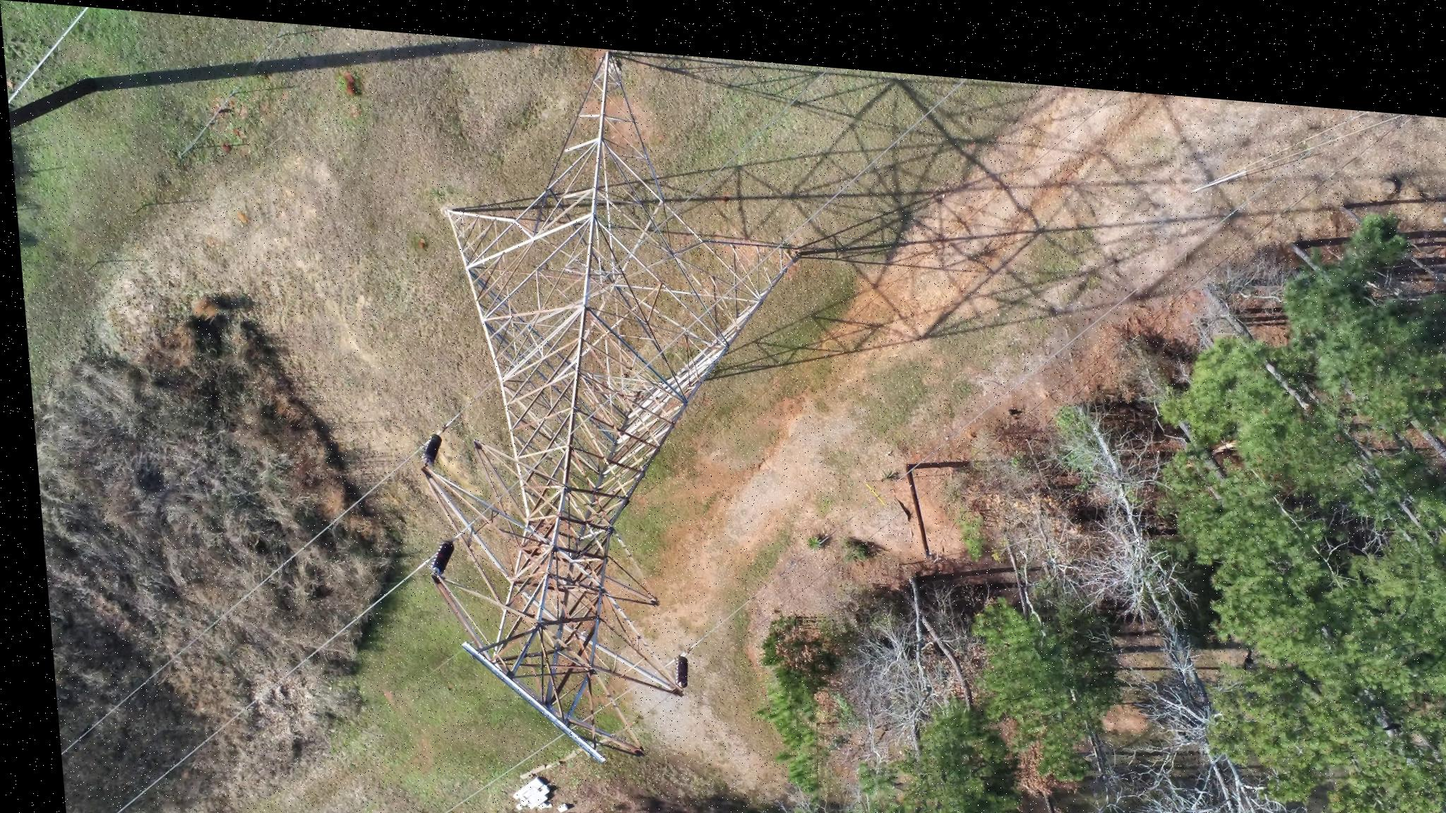tower: (378, 32, 848, 786)
